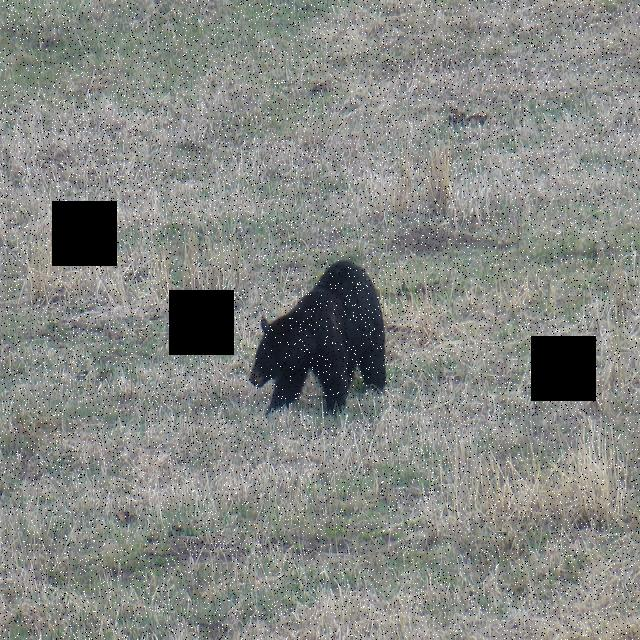Bear: (240, 254, 390, 408)
